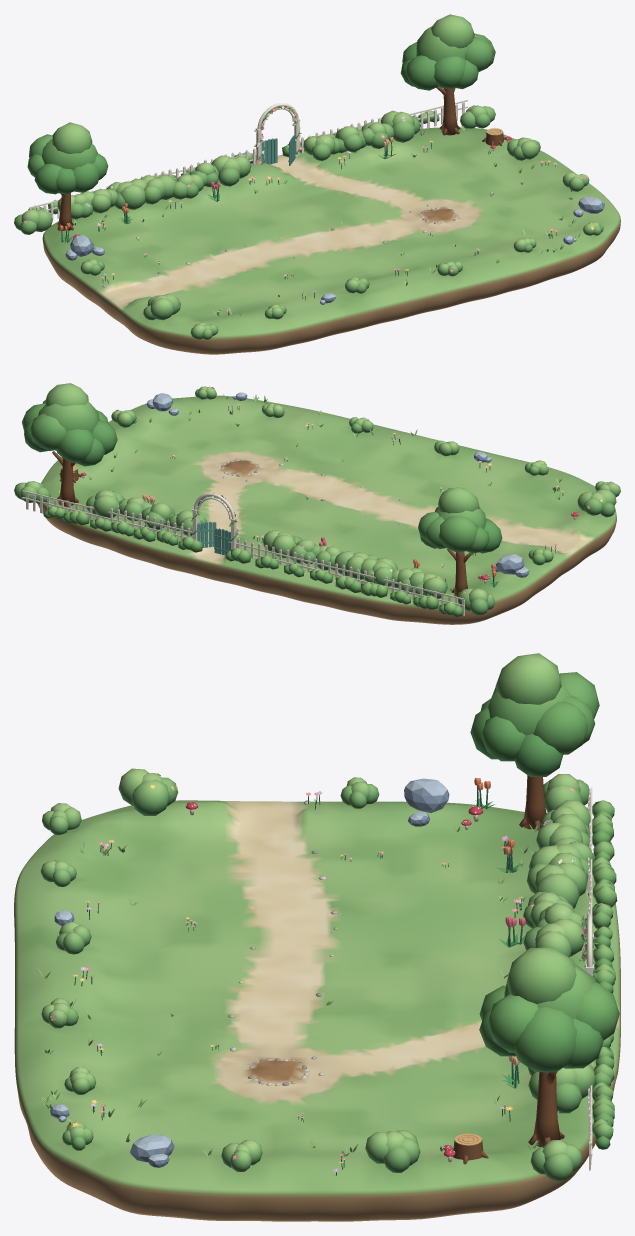
The model's file is jardim-acolhedor.glb.
3 renders of one model, top to bottom at view 1: azimuth 30°, elevation 25°; view 2: azimuth 150°, elevation 25°; view 3: azimuth 270°, elevation 25°, orthographic. The views are drawn at different scales.
Visible parts, largest first — view 1: jardim-acolhedor; view 2: jardim-acolhedor; view 3: jardim-acolhedor.
Boxes of the visible parts, box(x1,y1,x2,y2) form: jardim-acolhedor: box(14, 14, 620, 354); jardim-acolhedor: box(14, 383, 620, 624); jardim-acolhedor: box(14, 653, 620, 1221).
Size of the model in its own units: 24.89 by 6.94 by 16.24.
